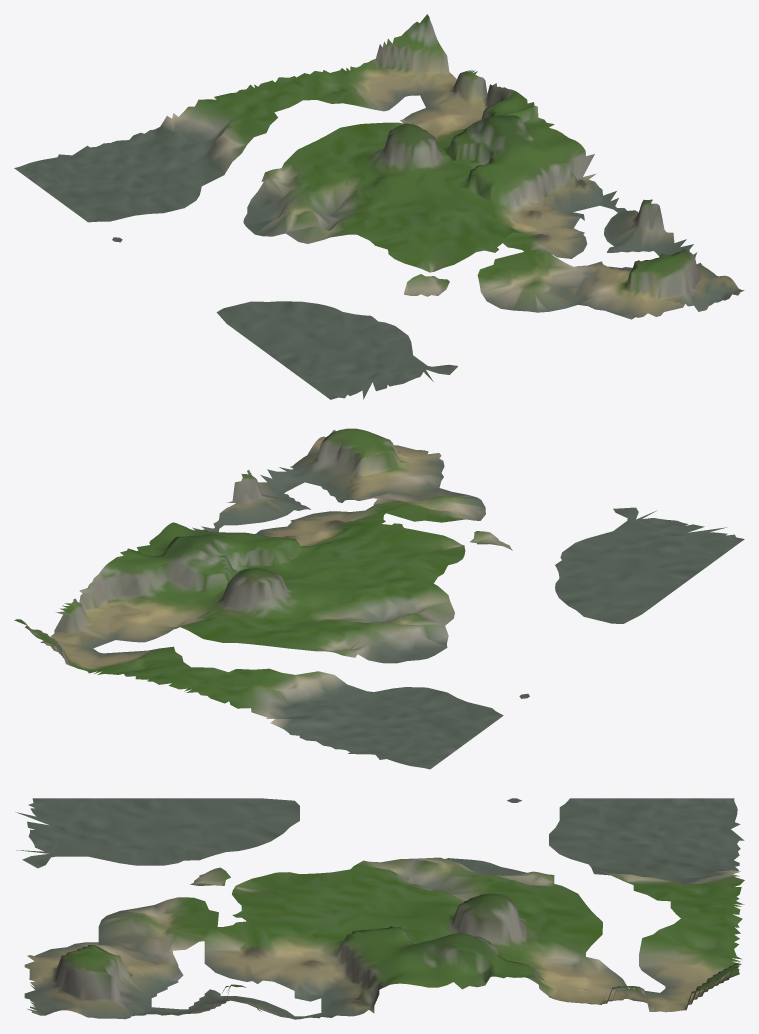
The model's file is coast_tile_x0z1_lod1.glb.
3 views of the same model, one above another, from view 1: azimuth 30°, elevation 25°; view 2: azimuth 150°, elevation 25°; view 3: azimuth 270°, elevation 25° (orthographic). The views are drawn at different scales.
Visible parts, largest first — view 1: coast_tile_x0z1_lod1; view 2: coast_tile_x0z1_lod1; view 3: coast_tile_x0z1_lod1.
Boxes of the visible parts, x1,y1,x2,y2 form: coast_tile_x0z1_lod1: [14, 14, 744, 399]; coast_tile_x0z1_lod1: [14, 428, 744, 769]; coast_tile_x0z1_lod1: [15, 798, 744, 1019].
Bounding box in the file's own units: 612 × 71.53 × 828.
